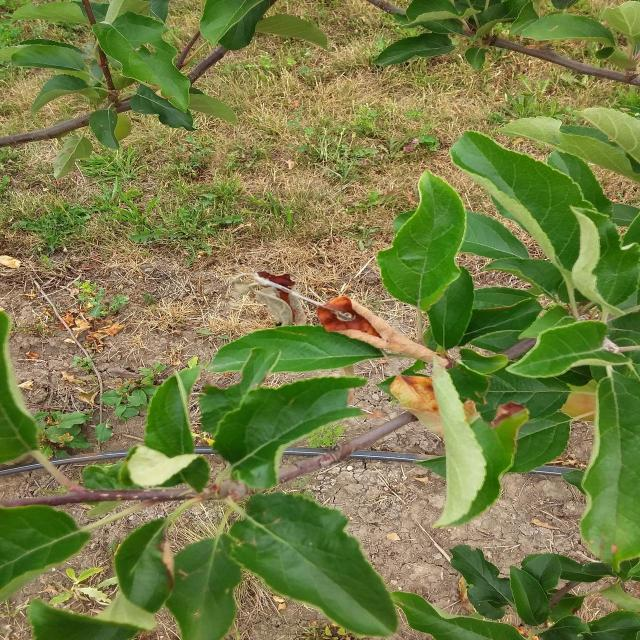-FireBlight-: (228, 233, 458, 367)
